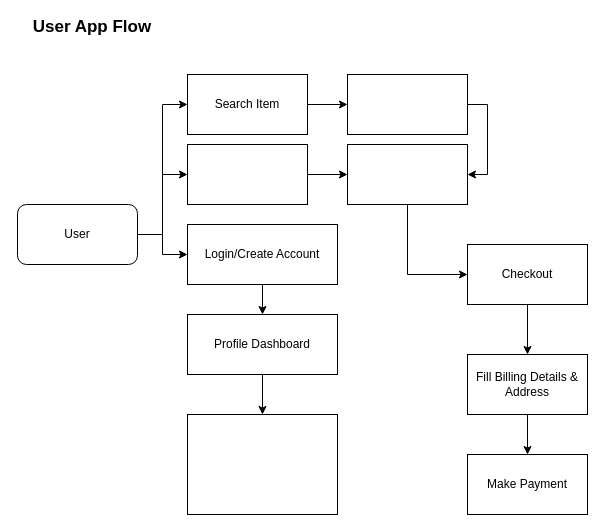
Image size: 605x532. Some labels were removed from this diagram. Each missing label, with the centre of its shape:
Select Item and Add to Cart: [407,174]
View Items: [247,174]
View Orders Download Receipt Cancel Orders Send Complaint: [262,464]
View Search Result / Filter Items: [407,104]
